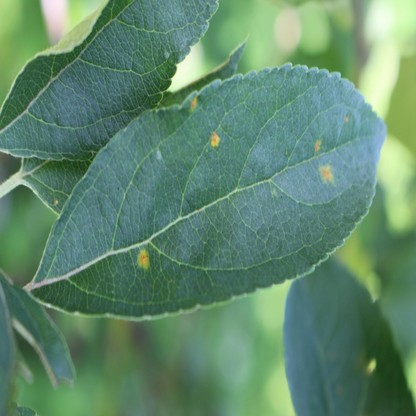powdery_mildew: (156, 150, 162, 161), (164, 49, 169, 59)
rust: (137, 247, 149, 269), (209, 130, 221, 147), (321, 163, 332, 181), (314, 138, 320, 153), (192, 94, 197, 110), (345, 112, 348, 121)
